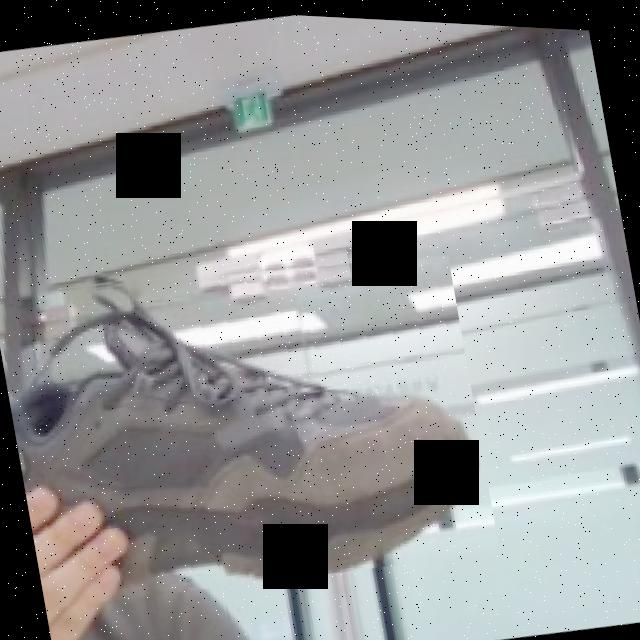shoe: (0, 215, 499, 626)
